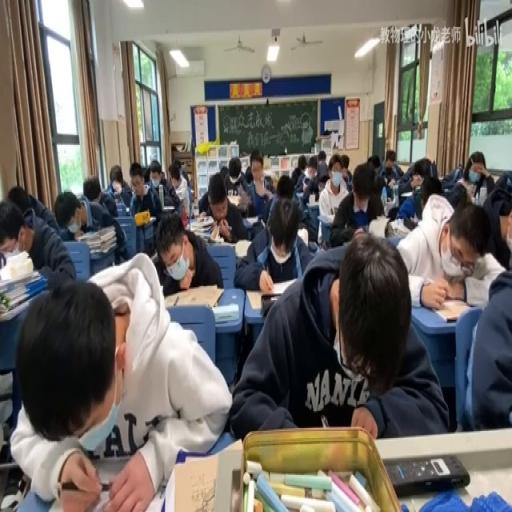calculator: (46, 461, 146, 512), (171, 453, 220, 512), (166, 283, 223, 309), (88, 430, 134, 462), (75, 224, 117, 254), (430, 297, 472, 323), (212, 302, 238, 322), (234, 238, 252, 258), (190, 213, 213, 226), (196, 232, 219, 244), (133, 215, 155, 226), (383, 199, 397, 216), (295, 225, 307, 243), (306, 196, 320, 208), (226, 194, 240, 206), (243, 214, 258, 224), (295, 189, 305, 199), (162, 205, 176, 210)
paper: (11, 252, 226, 509), (231, 230, 445, 440), (396, 194, 506, 312), (234, 191, 313, 287), (2, 193, 74, 286), (156, 208, 222, 294), (327, 156, 384, 246), (454, 151, 492, 206), (221, 155, 253, 216), (147, 158, 179, 208), (103, 163, 132, 212), (302, 154, 328, 200), (198, 166, 222, 215), (488, 174, 511, 214), (418, 175, 442, 212), (380, 146, 402, 180), (7, 185, 30, 215), (394, 172, 414, 202), (82, 173, 102, 202), (290, 152, 306, 186), (411, 156, 433, 180), (276, 174, 294, 199), (372, 173, 387, 202), (177, 160, 191, 188), (367, 154, 381, 172), (263, 174, 274, 192), (340, 154, 350, 172), (219, 164, 229, 180), (244, 165, 252, 183), (316, 150, 325, 164), (144, 166, 150, 184), (302, 175, 310, 186), (160, 172, 165, 181)
person: (386, 452, 470, 495), (259, 292, 280, 316), (230, 468, 242, 510), (403, 215, 416, 230), (446, 314, 456, 322)
